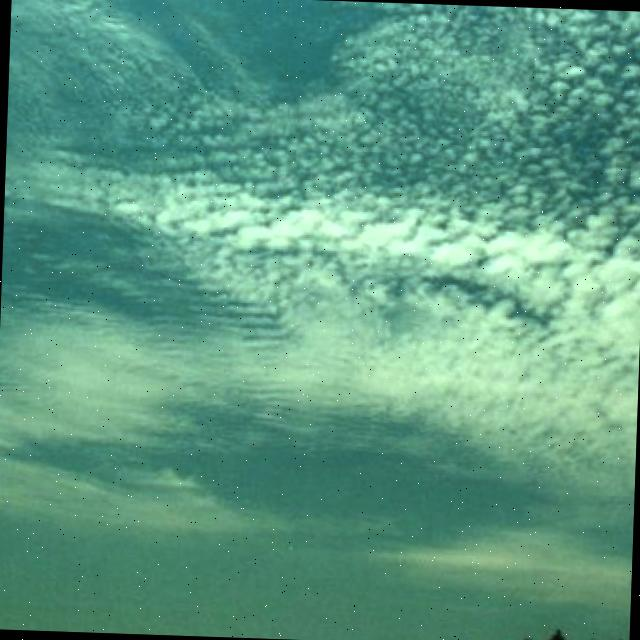Cc: (1, 38, 640, 572)
